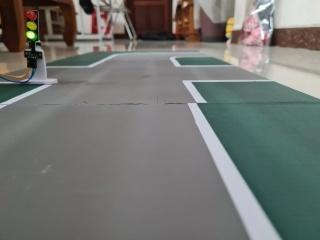green: (20, 5, 44, 53)
